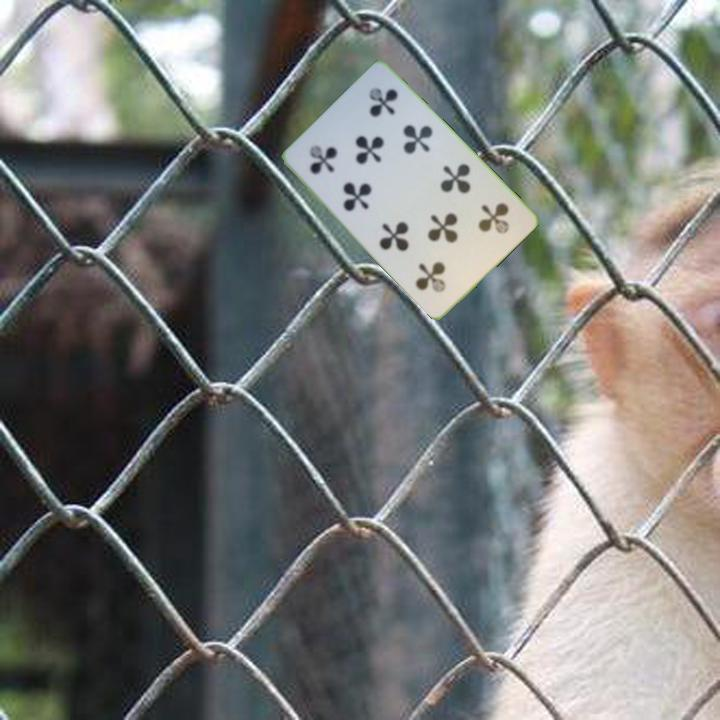c_10.png: (290, 114, 376, 200), (441, 180, 527, 266)
